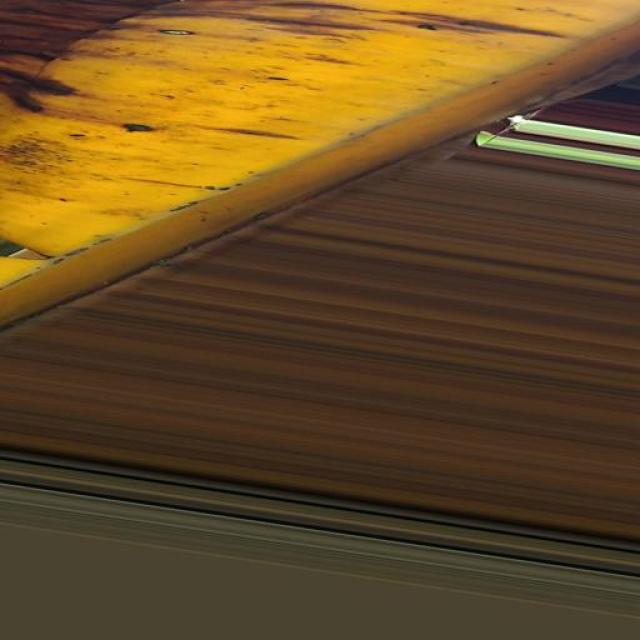Cordana: (0, 0, 639, 329)
